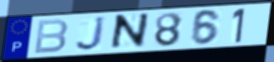1: (231, 7, 246, 44)
6: (189, 8, 225, 46)
8: (153, 12, 184, 48)
B: (32, 18, 70, 55)
J: (74, 15, 108, 52)
N: (107, 11, 152, 52)
